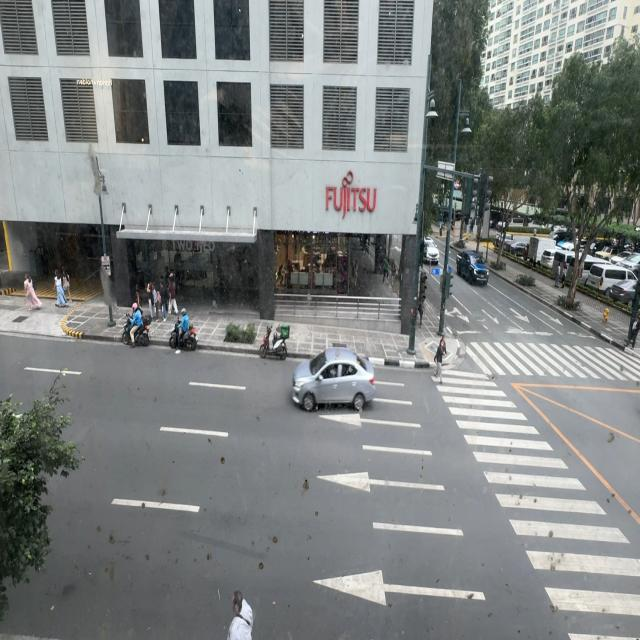crossing: (434, 336, 446, 383)
pedestrain: (24, 274, 43, 312), (54, 269, 68, 308), (168, 274, 179, 320), (146, 280, 156, 324), (161, 280, 171, 322), (417, 296, 425, 328), (561, 262, 567, 288), (555, 263, 561, 288)
waiting: (626, 309, 640, 347)
